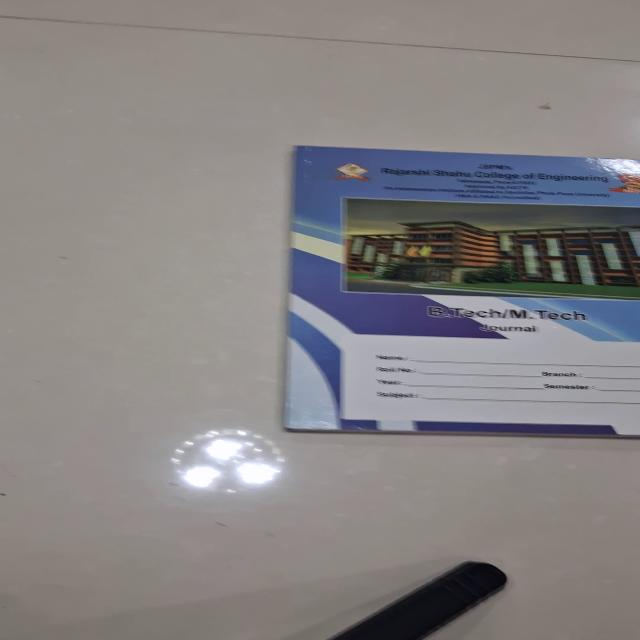paper: (282, 144, 639, 437)
